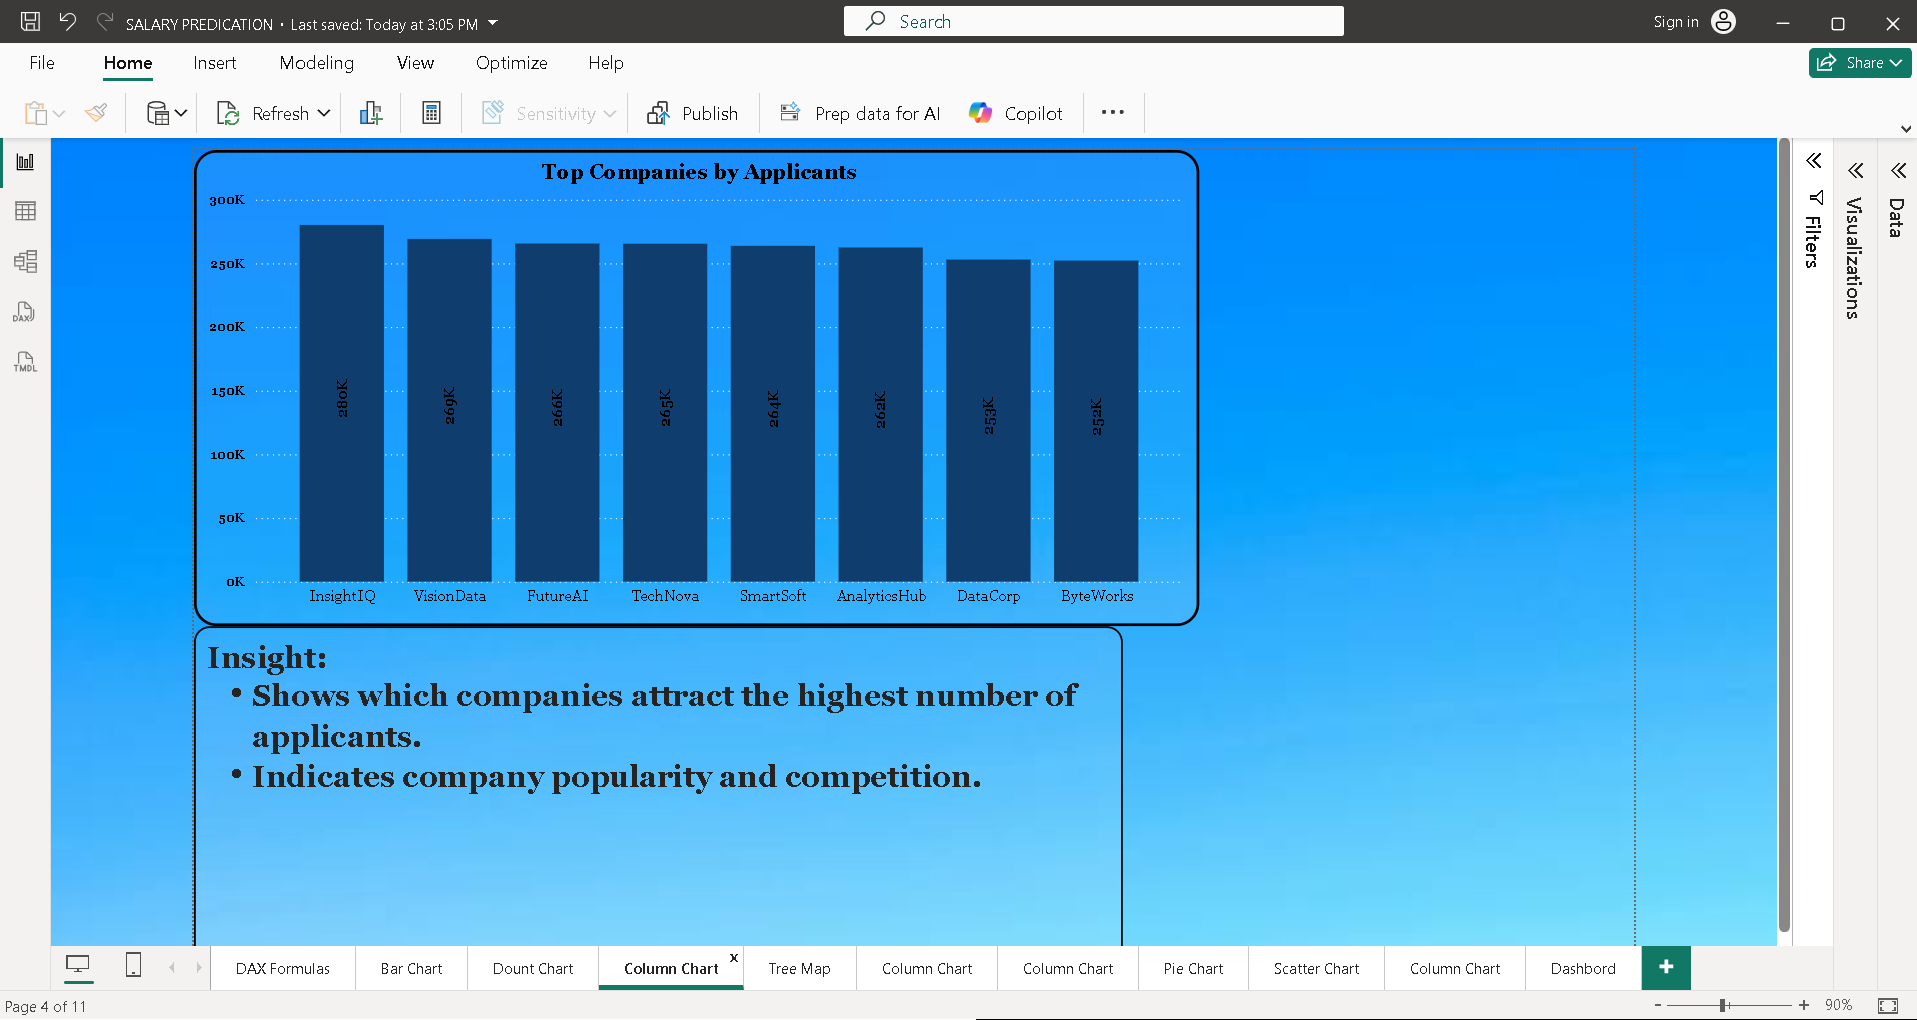

The dashboard page shown, as its layout file describes it:
{"tool":"powerbi","page":{"name":"Column Chart ","canvas":[1280,720],"ordinal":3},"visuals":[{"type":"columnChart","title":"Top Companies by Applicants","fields":{"Category":["clean_job_market_salary_fixed.Company"],"Y":["Sum(clean_job_market_salary_fixed.Applicants)"]},"box":[0,0,893.9,423.1],"z":0},{"type":"textbox","box":[0,423.1,825.4,297.1],"z":1000}]}

Visuals, with their boxes on the page's 1280x720 design canvas (x1, y1, x2, y2). These are canvas units, not pixel positions in the 1917x1020 screenshot, which may show the page scaled, cropped or inside an application window:
"Top Companies by Applicants" columnChart: pyautogui.locateOnScreen(0, 0, 894, 423)
textbox: pyautogui.locateOnScreen(0, 423, 825, 720)
